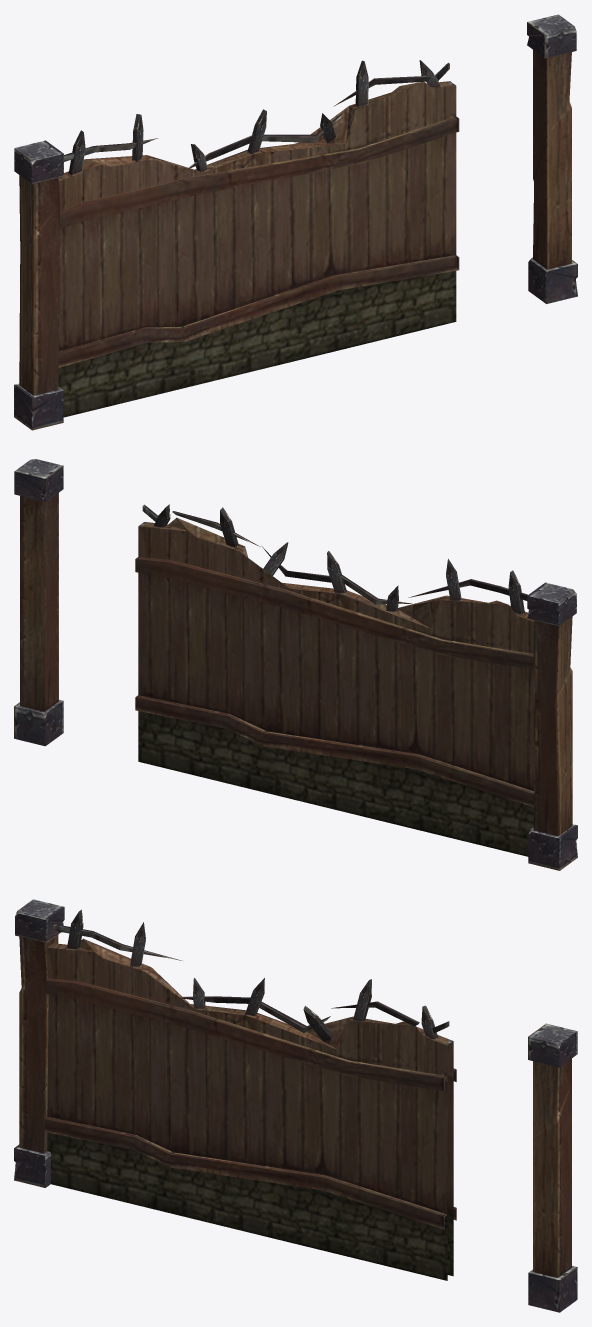
File: s7_fight_muqiang.FBX
3 renders of one model, top to bottom at view 1: azimuth 30°, elevation 25°; view 2: azimuth 150°, elevation 25°; view 3: azimuth 330°, elevation 25°, orthographic.
Parts seen in each view (by area): view 1: s7_fight_muqiang, s7_fight_muqiang_zhuzi; view 2: s7_fight_muqiang, s7_fight_muqiang_zhuzi; view 3: s7_fight_muqiang, s7_fight_muqiang_zhuzi.
Boxes of the visible parts, x1,y1,x2,y2 form: s7_fight_muqiang: (14, 60, 459, 430); s7_fight_muqiang_zhuzi: (527, 14, 577, 303); s7_fight_muqiang: (135, 504, 577, 870); s7_fight_muqiang_zhuzi: (14, 459, 63, 746); s7_fight_muqiang: (14, 899, 456, 1280); s7_fight_muqiang_zhuzi: (528, 1023, 577, 1312).
Size of the model in its own units: 866 by 422 by 64.96.
